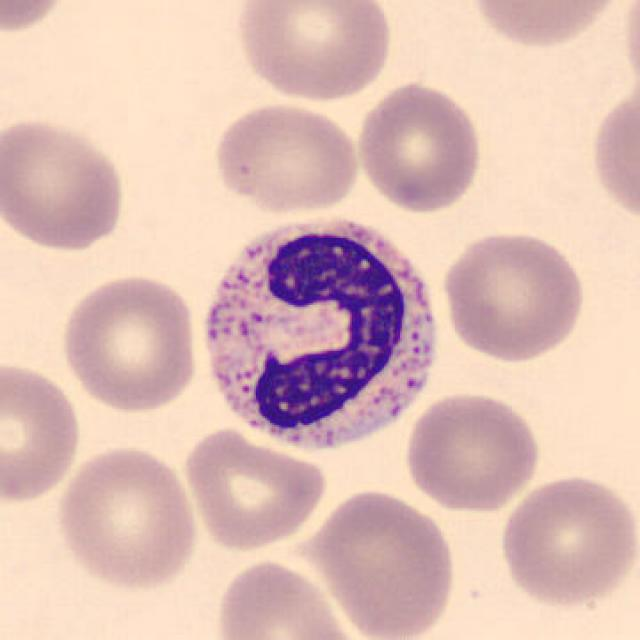Neutrophil: (191, 204, 454, 463)
RBC: (302, 486, 460, 640), (51, 441, 201, 594), (55, 270, 203, 414), (438, 226, 588, 365), (494, 471, 638, 610), (179, 425, 329, 554), (0, 113, 130, 254), (210, 99, 362, 217), (354, 79, 485, 215), (402, 388, 544, 513), (233, 0, 396, 104), (212, 555, 362, 640), (0, 356, 85, 506), (464, 0, 626, 51), (587, 76, 638, 231), (0, 0, 76, 37), (620, 0, 639, 102)
